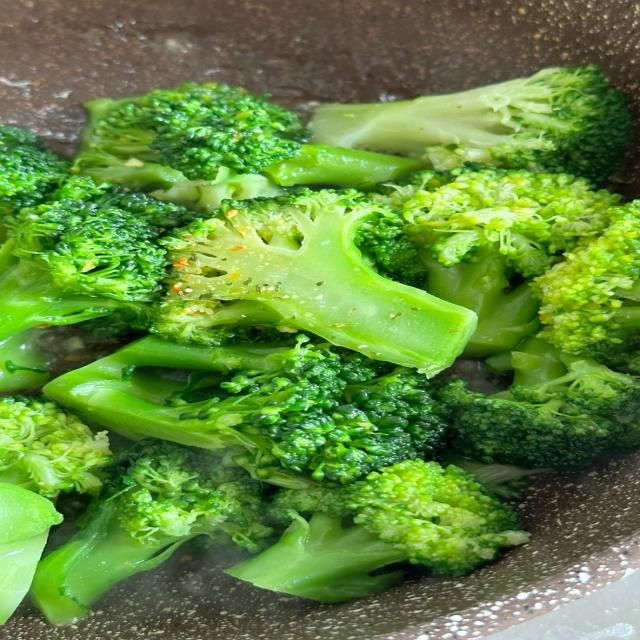broccoli: (154, 190, 476, 375), (46, 337, 445, 486), (374, 167, 619, 356), (74, 83, 424, 211), (32, 440, 272, 624), (227, 460, 528, 602), (0, 176, 196, 392), (0, 177, 196, 392), (310, 66, 630, 181), (373, 165, 619, 277), (437, 338, 639, 469), (0, 397, 109, 623), (0, 200, 165, 341), (533, 201, 639, 370), (422, 245, 539, 357), (0, 482, 62, 624), (47, 176, 198, 232), (0, 125, 68, 222), (446, 455, 553, 500), (0, 328, 49, 392)
